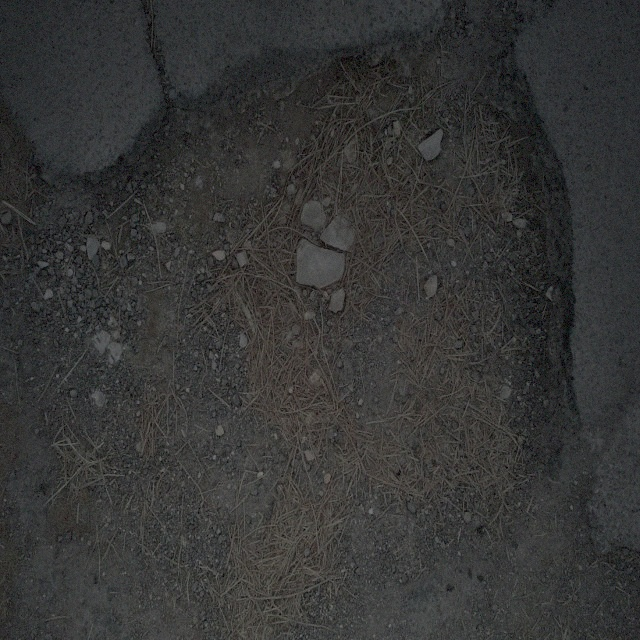pothole: (101, 29, 583, 440)
